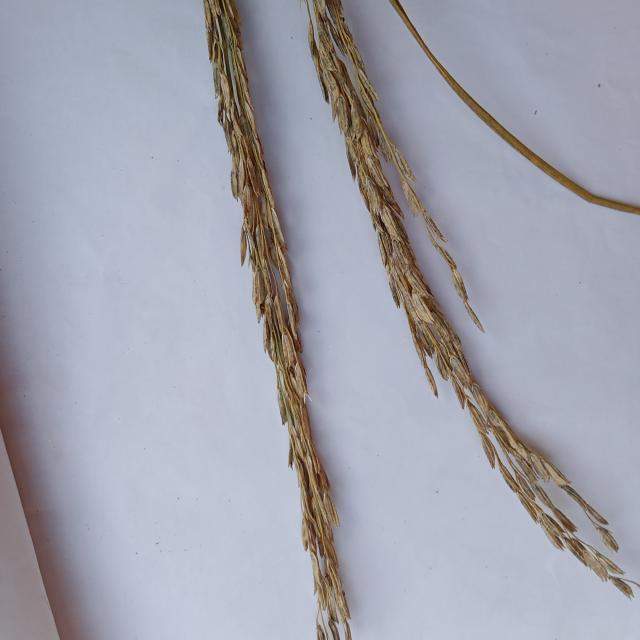Neck_Blast: (312, 0, 561, 503), (202, 0, 350, 621)
